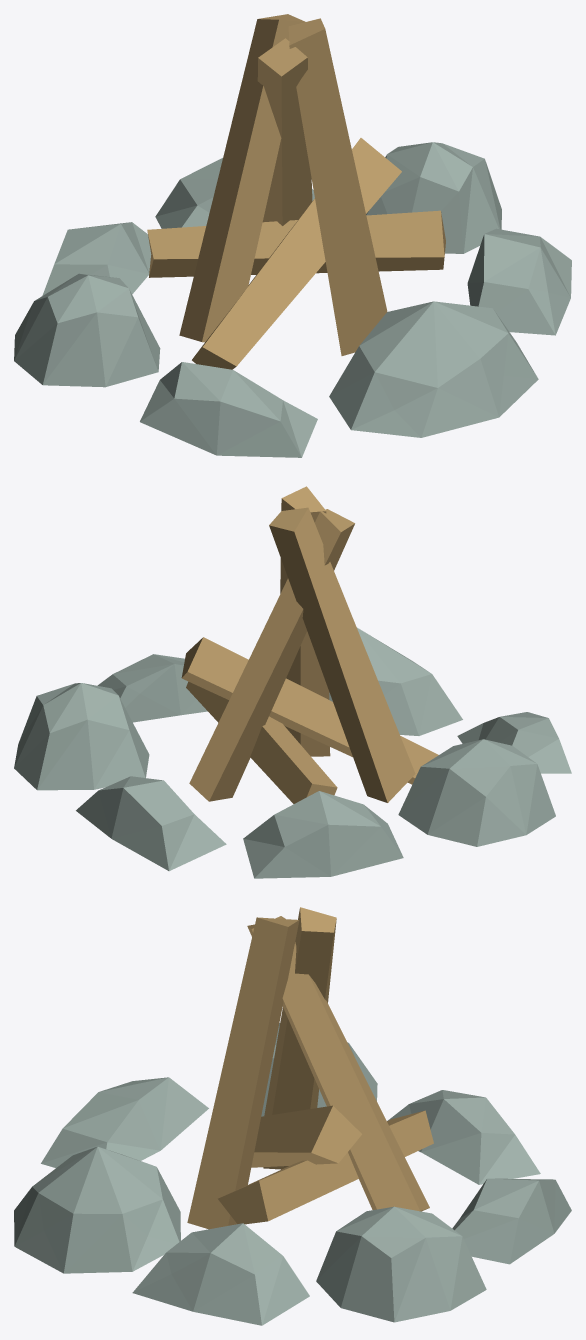
File: fireplace02.fbx
3 renders of one model, top to bottom at view 1: azimuth 30°, elevation 25°; view 2: azimuth 150°, elevation 25°; view 3: azimuth 270°, elevation 25°, orthographic. The views are drawn at different scales.
Visible parts, largest first — view 1: fireplace_02; view 2: fireplace_02; view 3: fireplace_02.
Part boxes in pixels (x1=…): fireplace_02: x1=14, y1=14, x2=571, y2=457; fireplace_02: x1=14, y1=486, x2=571, y2=878; fireplace_02: x1=14, y1=907, x2=571, y2=1325.
Bounding box in the file's own units: 1.62 × 1.51 × 0.925.
